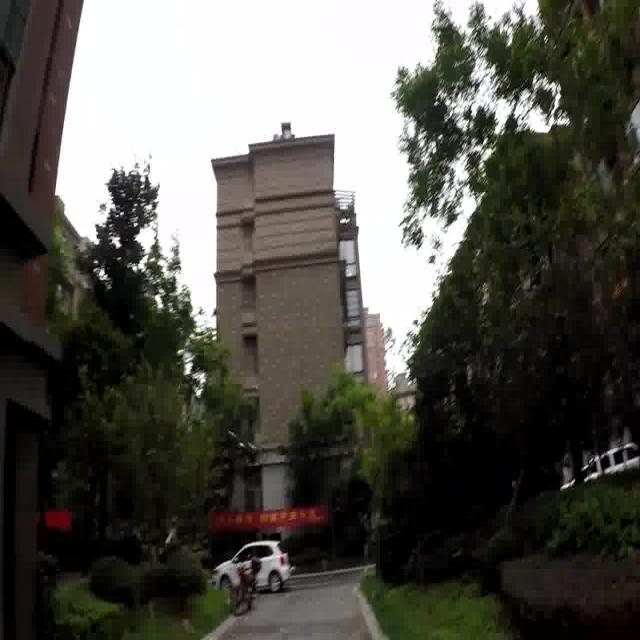drones: (222, 419, 269, 472)
